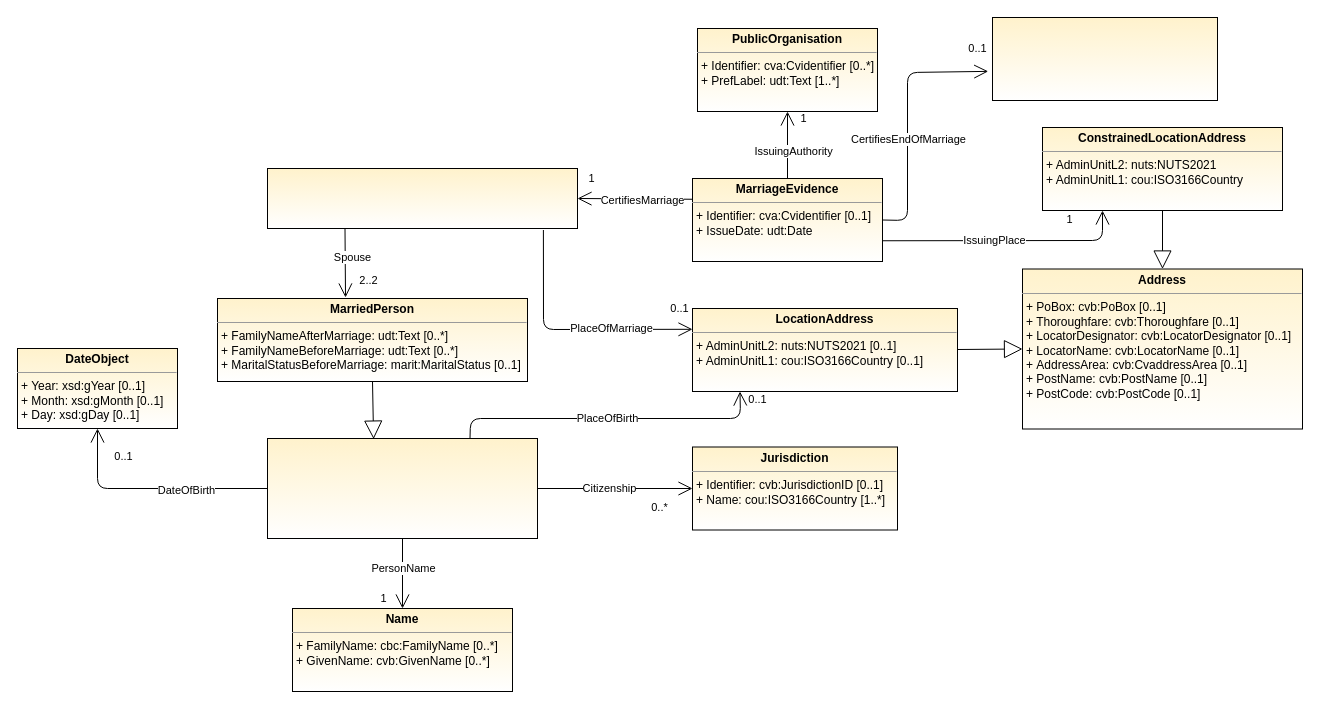
Some shapes in this 1320 by 709 pixel diagram are drawn without their labels. The shapes that lost their labels are listed below. From the top down, each one's centre as x and y in pixels, then its label:
At (x=1105, y=58): "EndOfMarriage + DateOfEndOfMarriage: udt:Date [0..1] + Cause: udt:Text [0..1]".
At (x=422, y=198): "Marriage + DateOfMarriage: udt:Date".
At (x=402, y=488): "Person + Identifier: cva:Cvidentifier [0..*] + Gender: gen:Gender".
